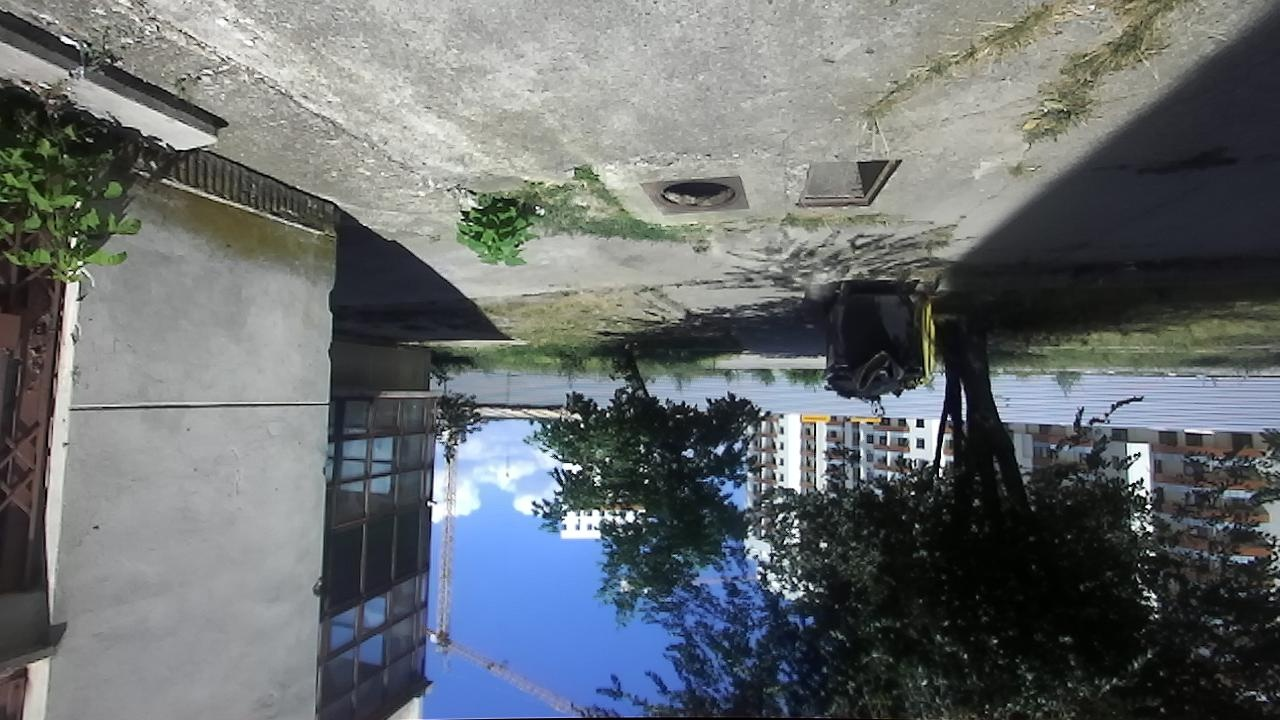drain: (794, 156, 903, 212), (650, 179, 739, 212)
